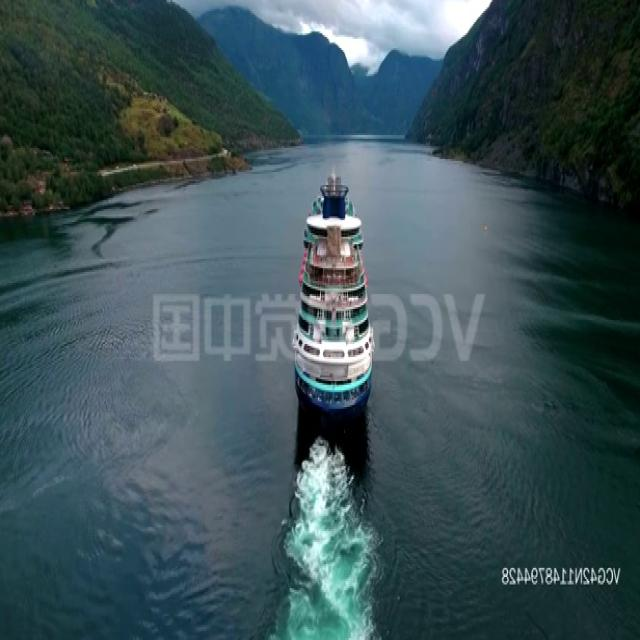passenger ship: (293, 168, 381, 413)
